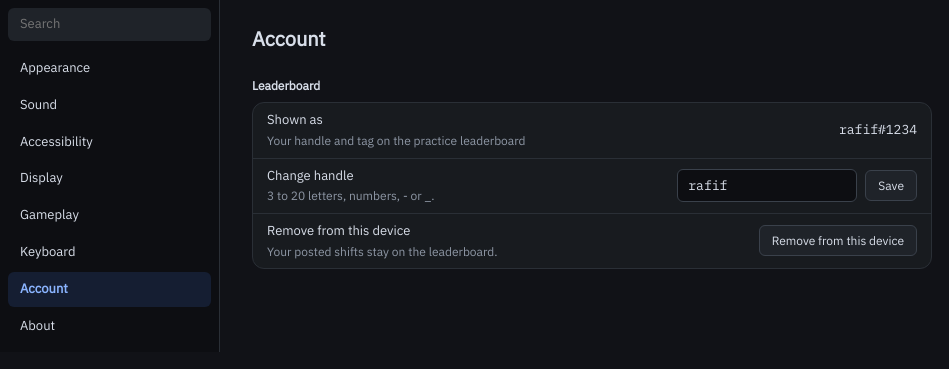
Settings: Account (M2) › shows the handle and renames it
This screenshot has width=949, height=369.
Check: the text "rafif#1234" is shown, box [839,121,917,140]
Replace the text in the field named "Handle" with "rafif_2" at (767, 186), box [677,169,857,202]
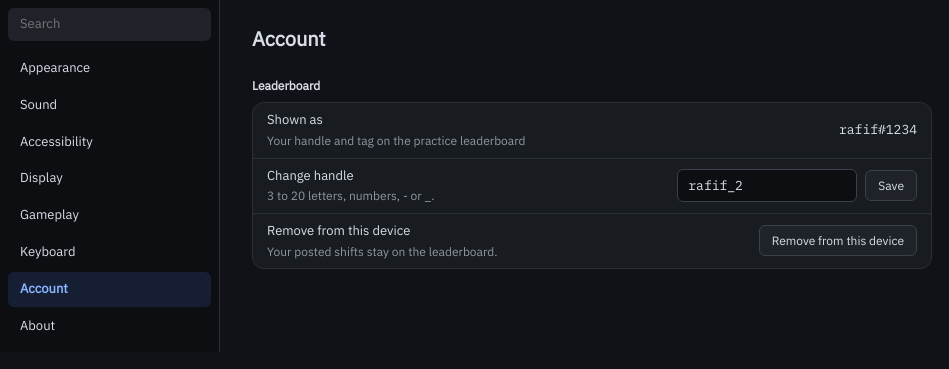
Click the button "Save" at (891, 186), box [865,170,917,201]
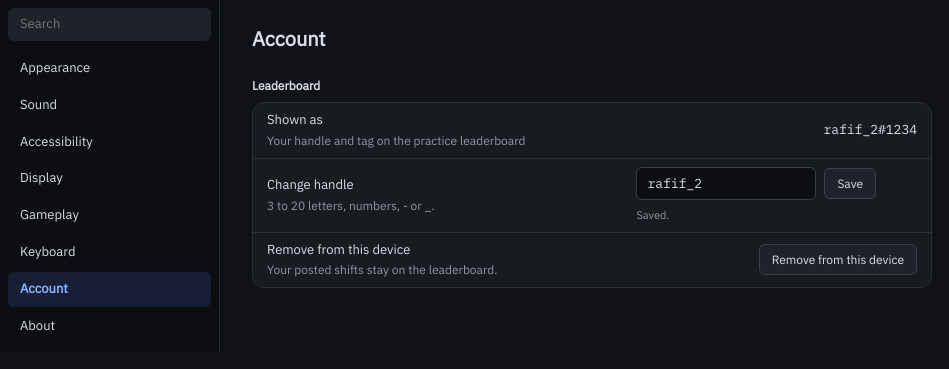
Check: the text "rafif_2#1234" is shown, box [823,121,917,140]
Check: the message reads "Saved.", box [636,208,669,222]
